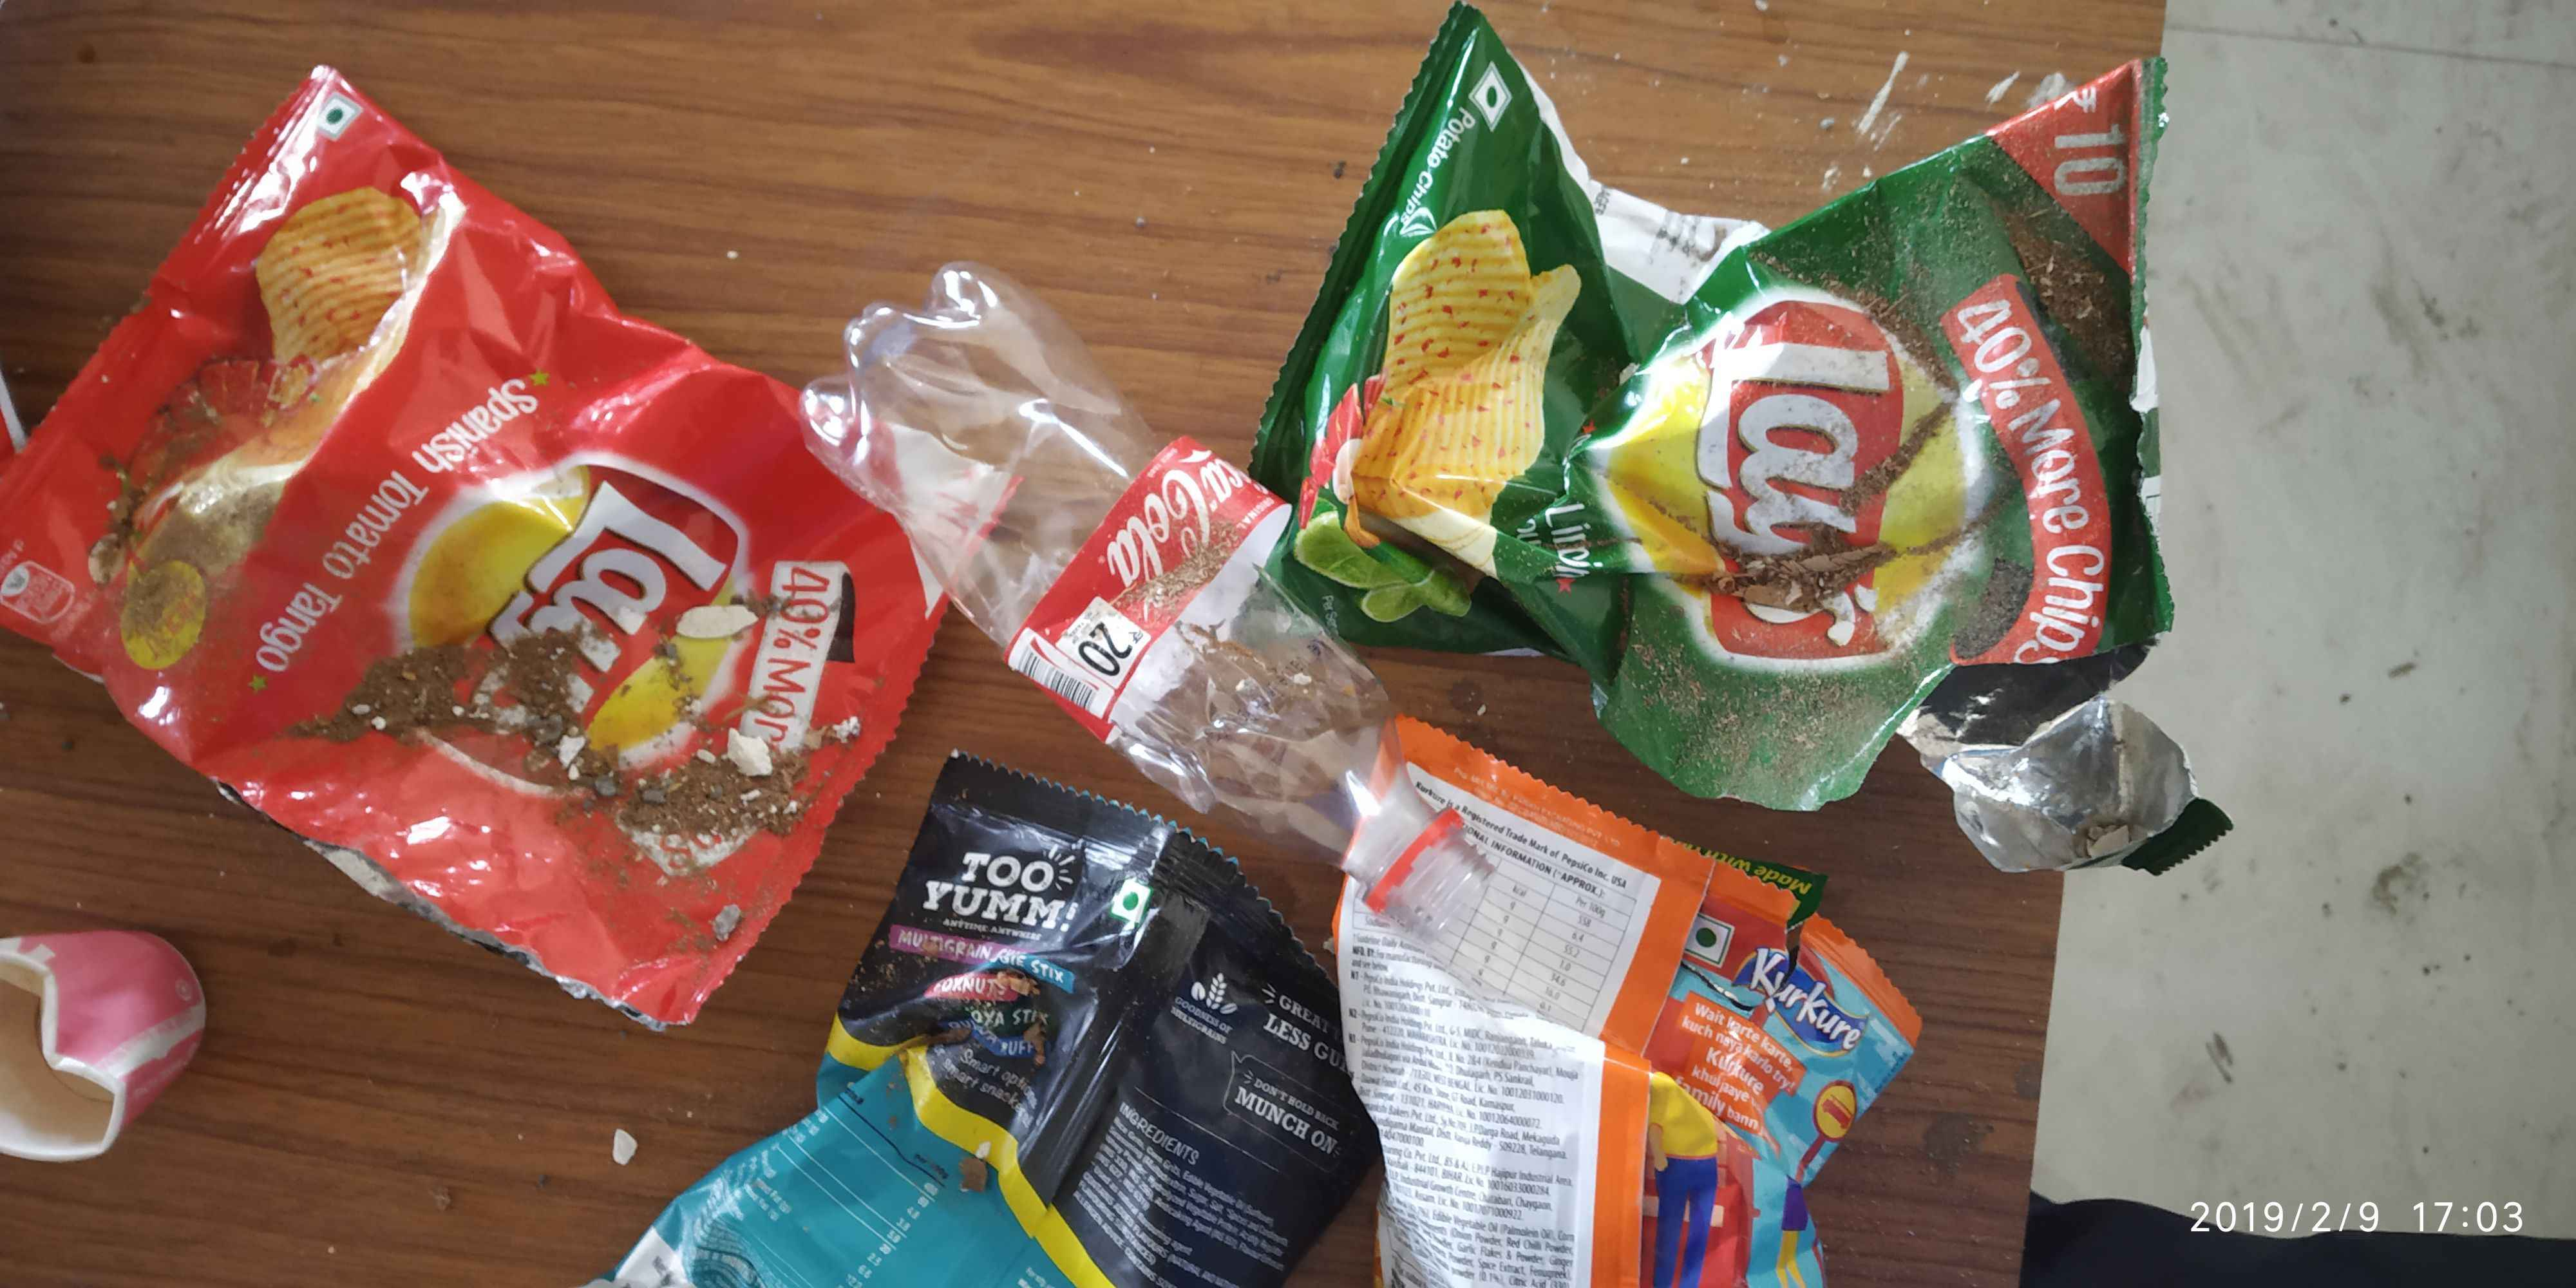Coca-Cola: (1094, 452, 1262, 621)
Lays: (1618, 271, 1966, 680), (368, 444, 772, 743)
kurkure: (1715, 931, 1888, 1066)
tooyumm: (918, 812, 1088, 946)
